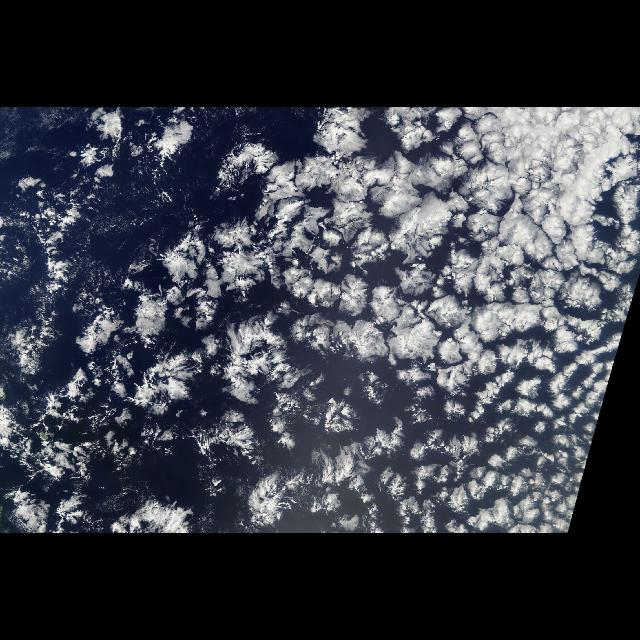Flower: (17, 125, 627, 533)
